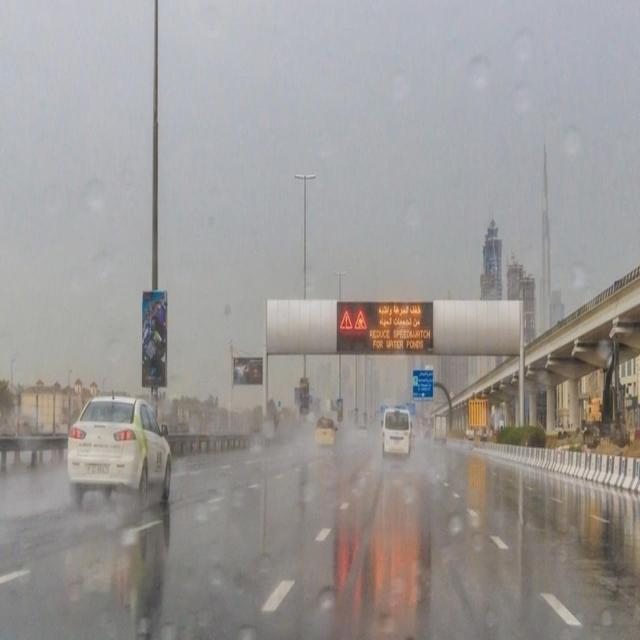Car: (67, 386, 175, 506), (312, 414, 339, 446)
Van: (378, 406, 412, 458)
